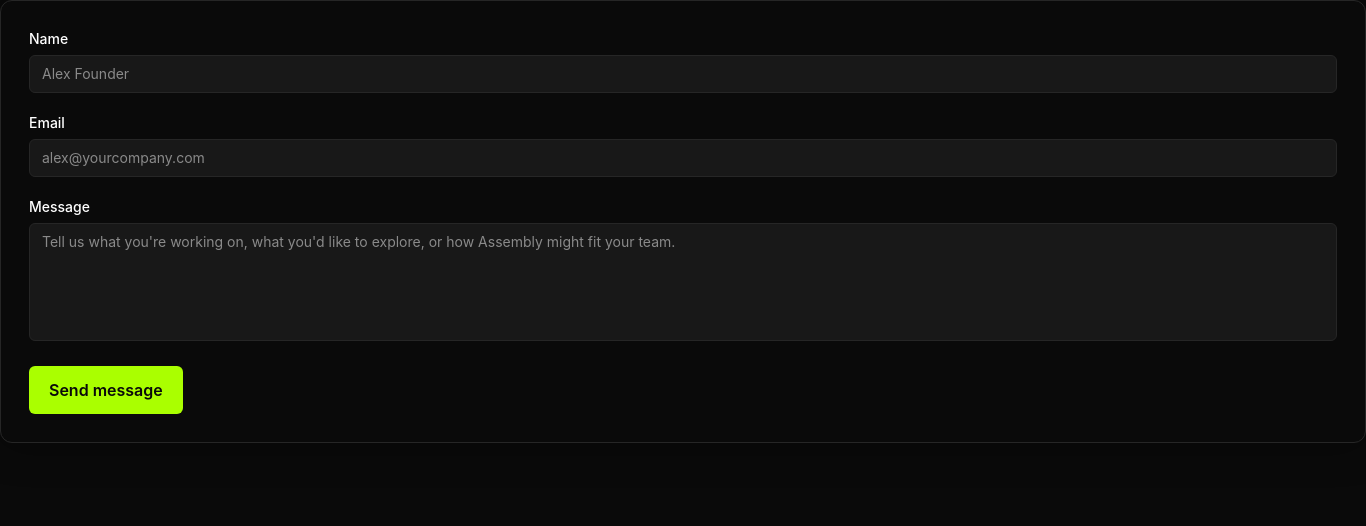
it: Phase 10B.7 — final polish › ContactForm shows backend error message on 4xx/5xx
Type "Bot Tester" into the field with test id "contact-name". click: [683, 74]
box: [29,55,1337,93]
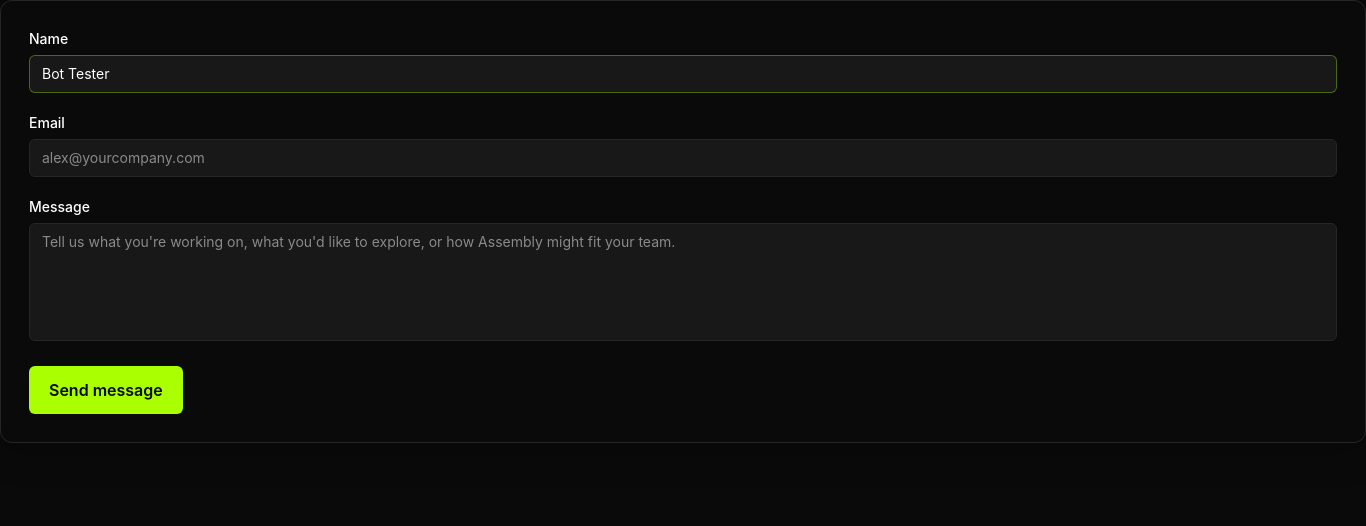
Type "test@example.com" into the field with test id "contact-email". click: [683, 158]
box: [29,139,1337,177]
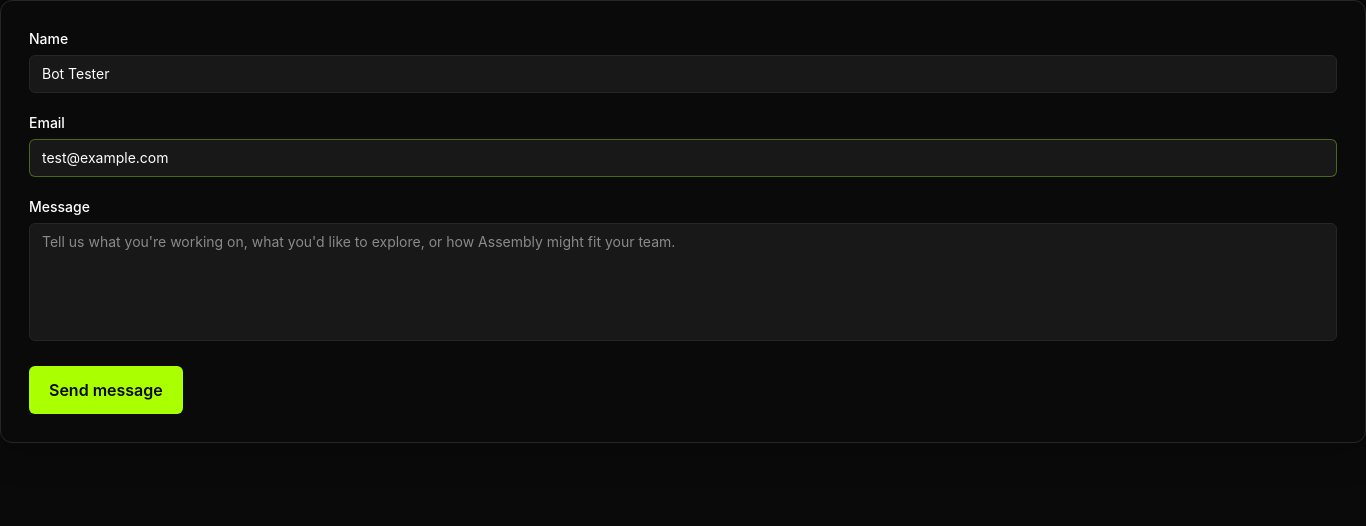
Type "Trying to trigger the rate limit branch." into the text box with test id "contact-message". click: [683, 282]
box: [29,223,1337,341]
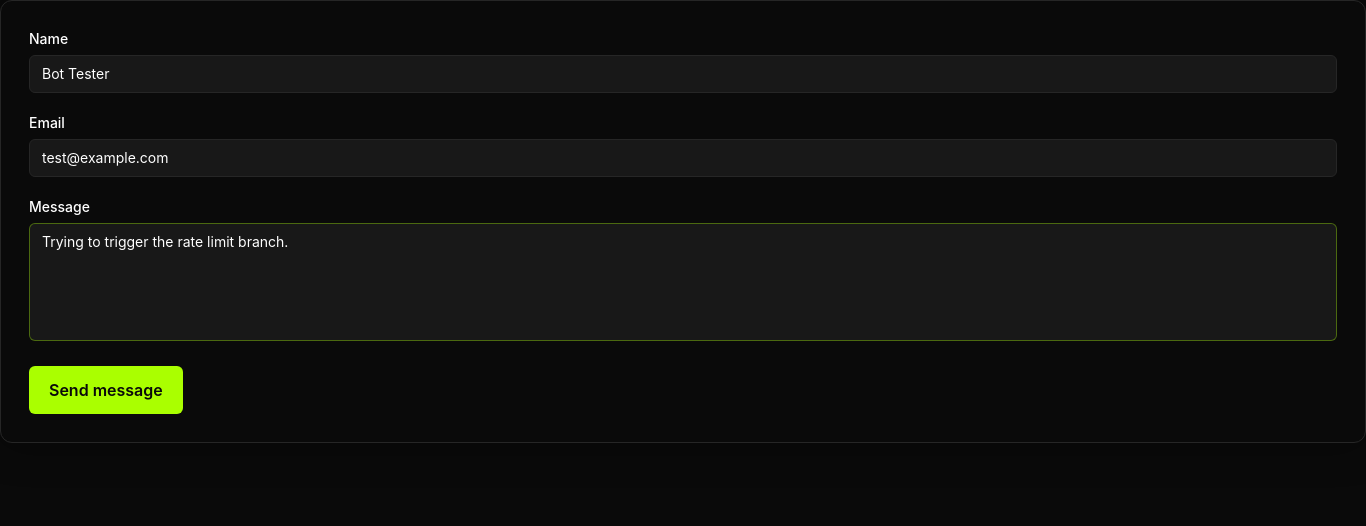
Click the button with test id "contact-submit". click: [106, 390]
box: [29,366,183,414]
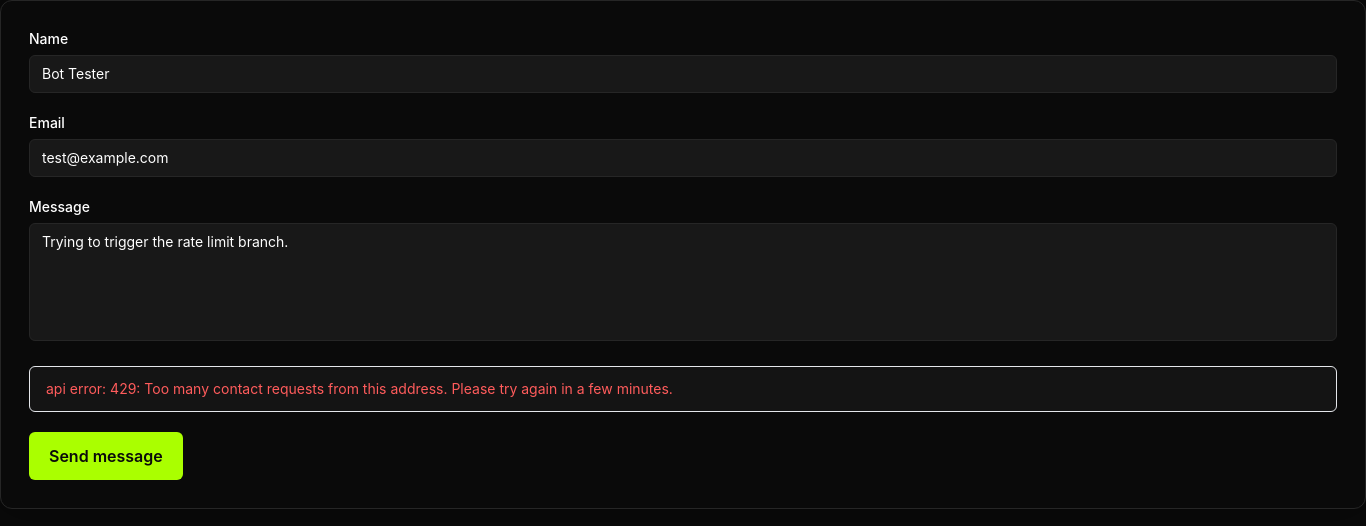
expect the message with test id "contact-error" shows "Too many contact requests": met, box [46,380,673,397]
